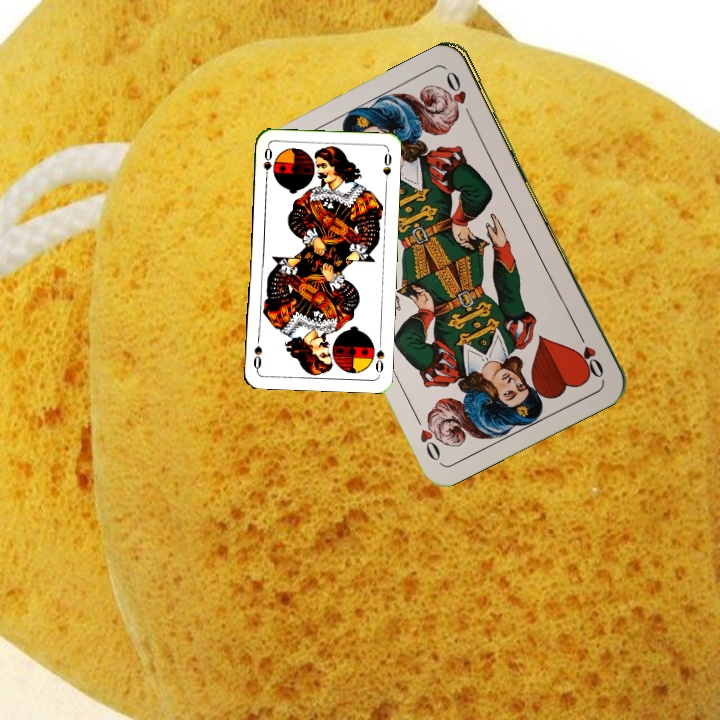HO: (573, 326, 606, 381)
SO: (259, 143, 275, 184), (371, 336, 387, 377)
